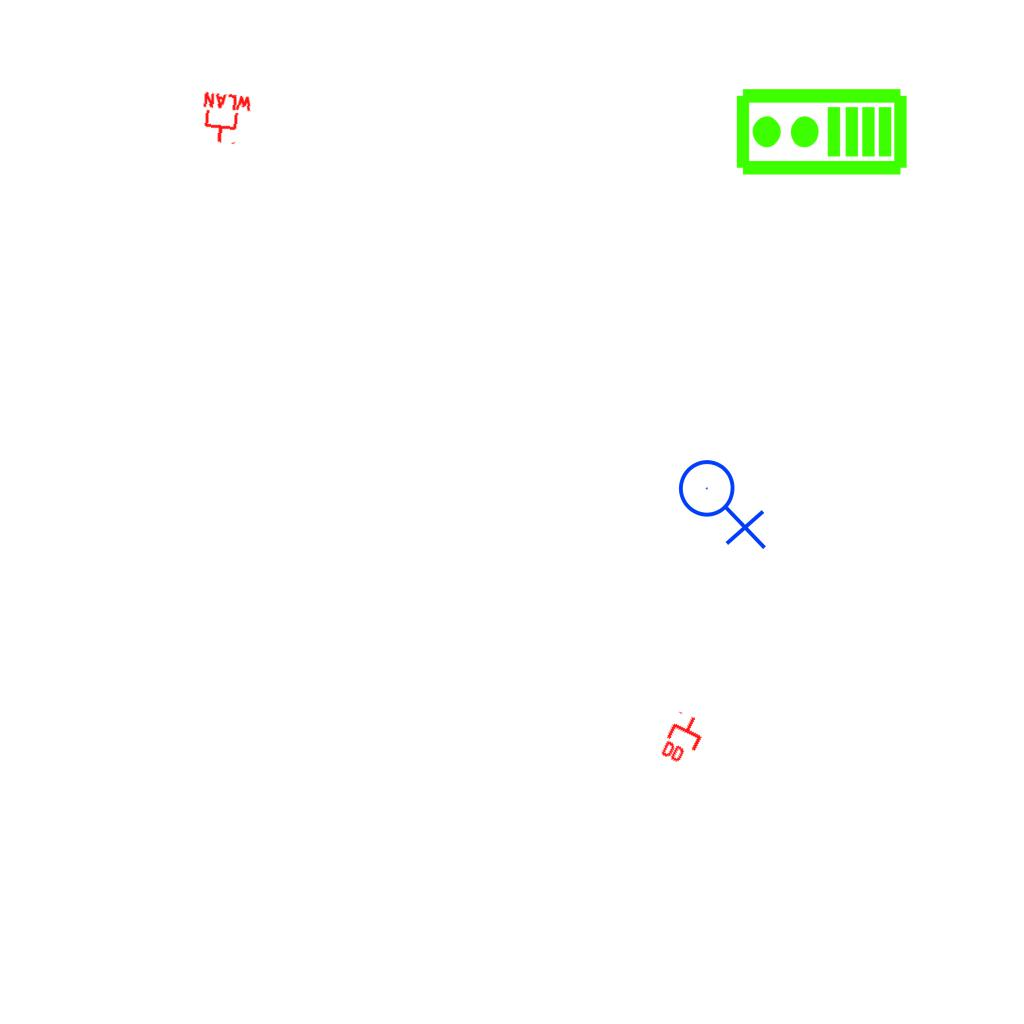Datenanschluss_zweifach: (657, 709, 711, 770)
Elektroanschluss_allgemein_230V_Geraeteanschlussdose_230V: (677, 451, 771, 550)
Gegensprechanlage_mit_Video: (733, 86, 909, 181)
WLAN: (197, 90, 255, 148)
